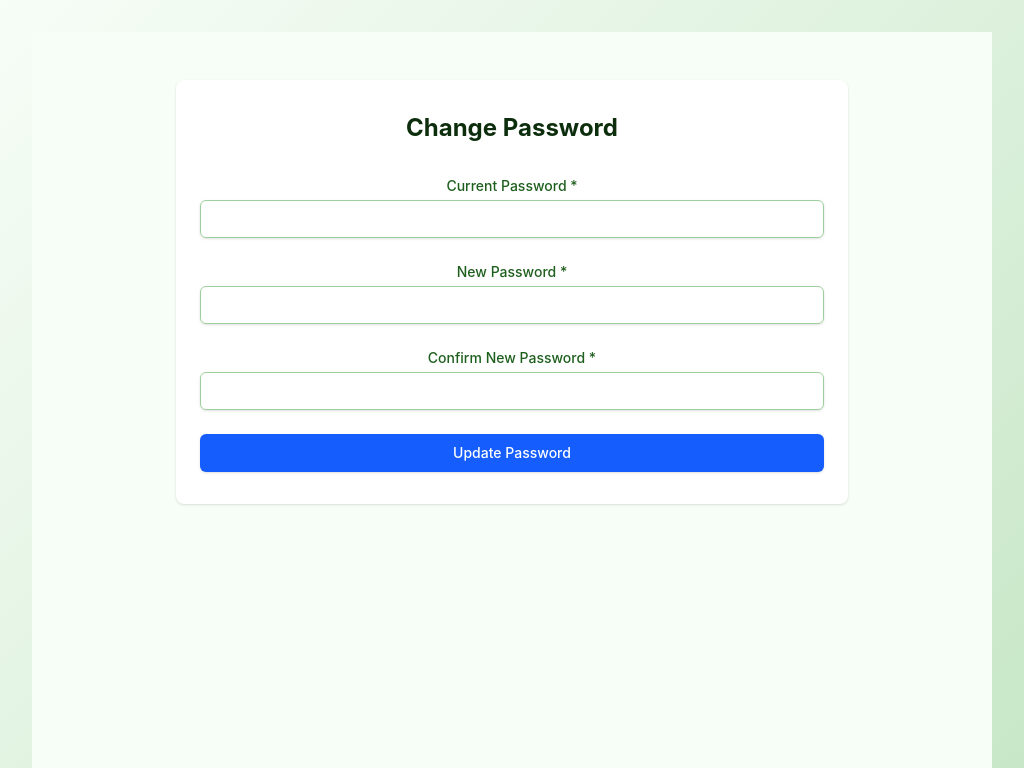
Test: ChangePasswordPage › Form Submission › should show success message and redirect to login after successful password change
Expected: the heading "Change Password" is shown, [406,113,618,142]
Type "OldPassword123!" into the password field labelled "Current Password *". click: (512, 219)
box: [200,200,824,238]
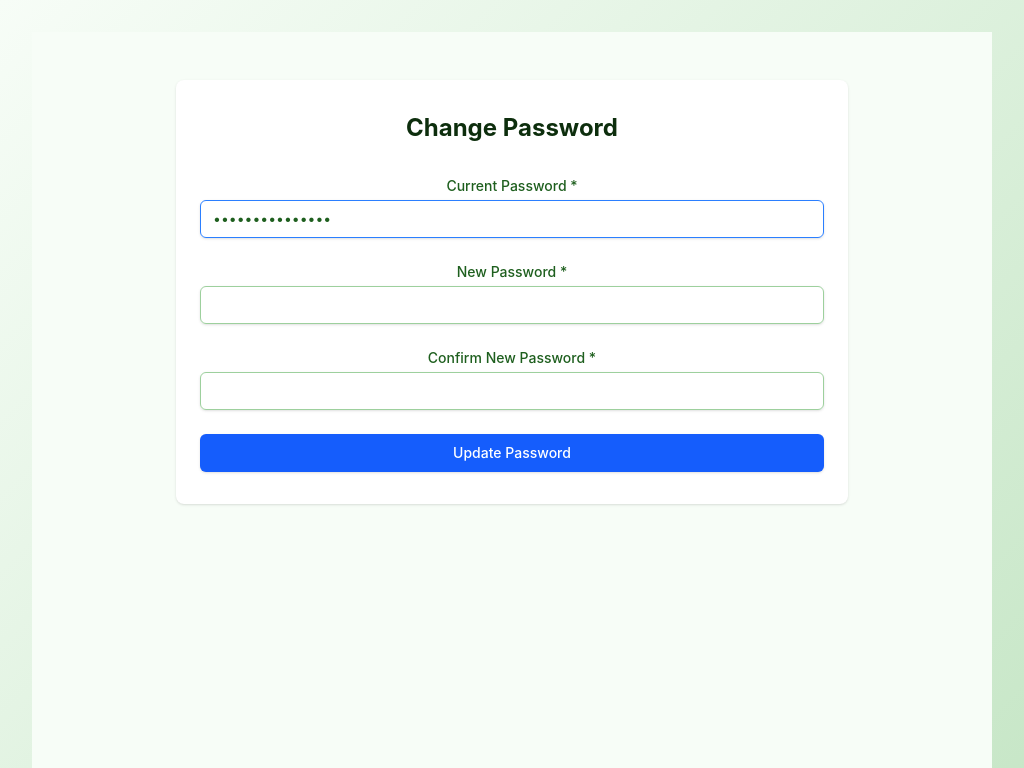
Type "NewPassword456!" into the password field labelled "New Password *". click: (512, 305)
box: [200,286,824,324]
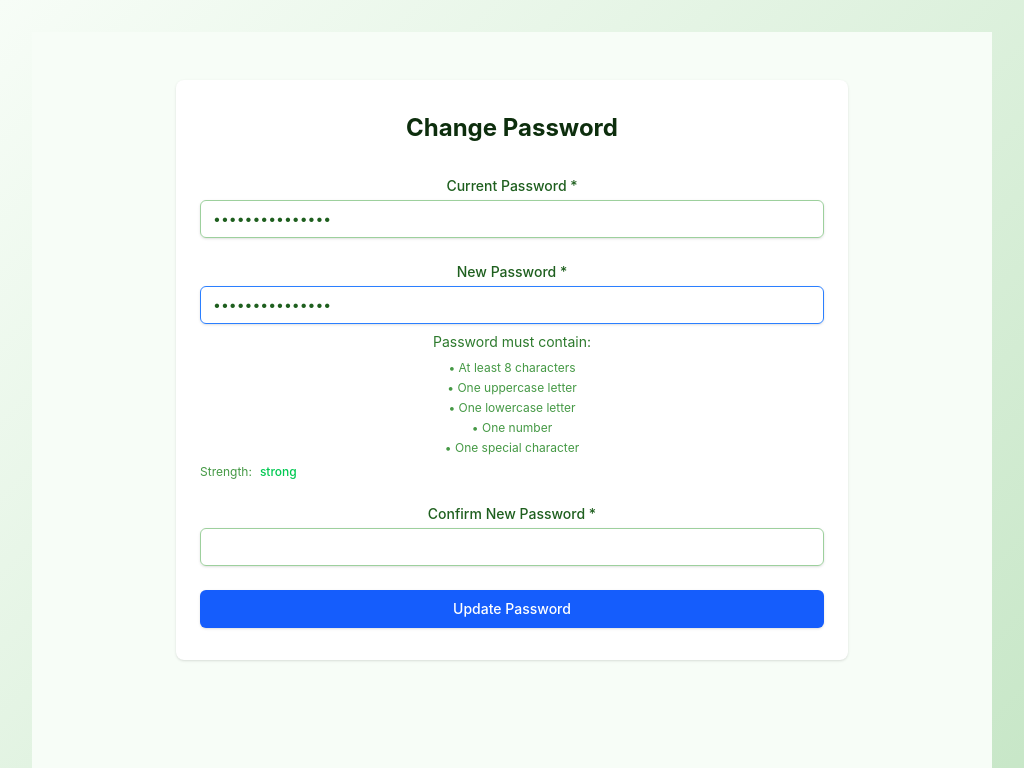
Type "NewPassword456!" into the password field labelled "Confirm New Password *". click: (512, 547)
box: [200,528,824,566]
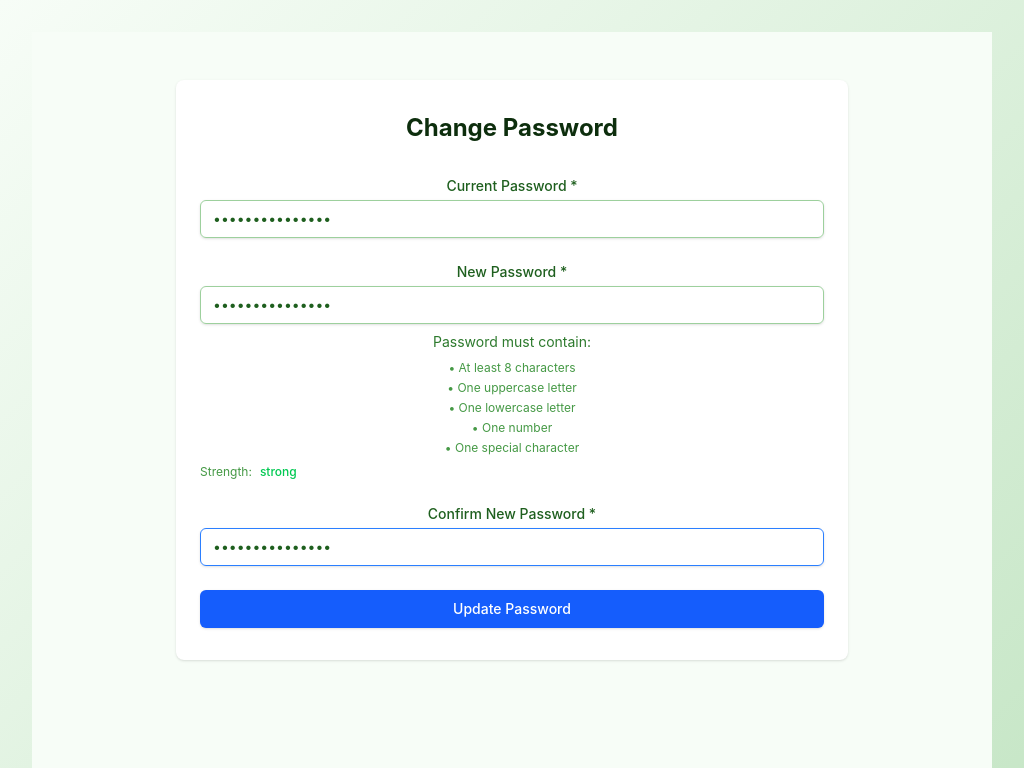
Click the button "Update Password". click: (512, 609)
box: [200,590,824,628]
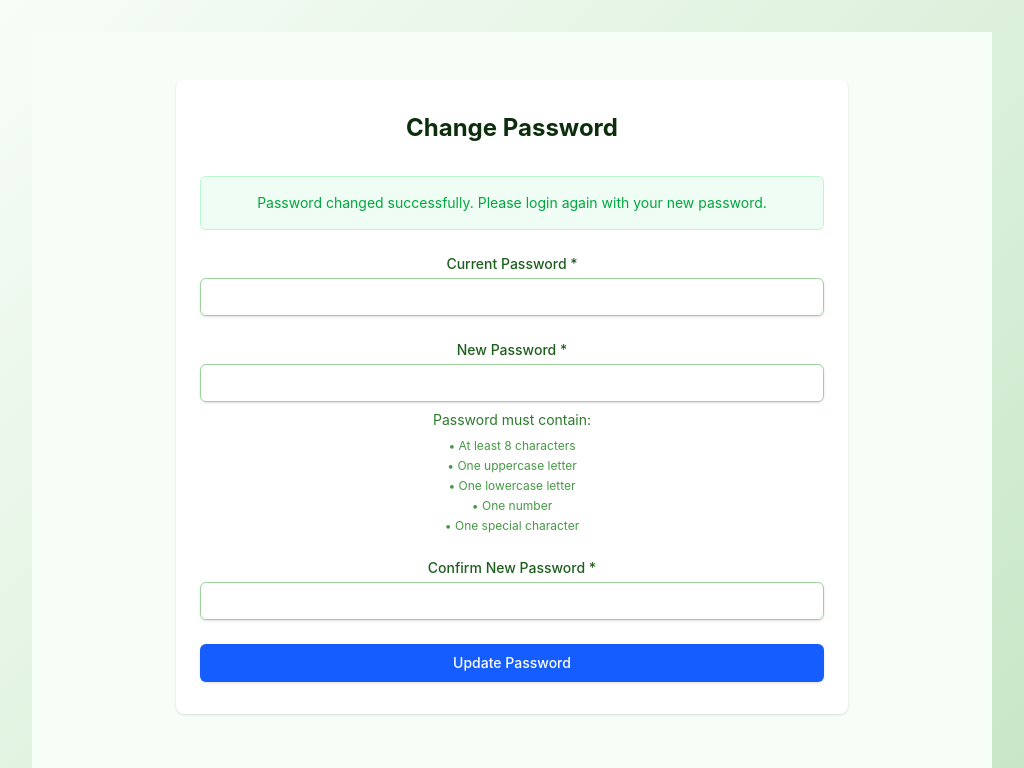
Result: the text "Password changed successfully" is shown at [257,194,767,211]
